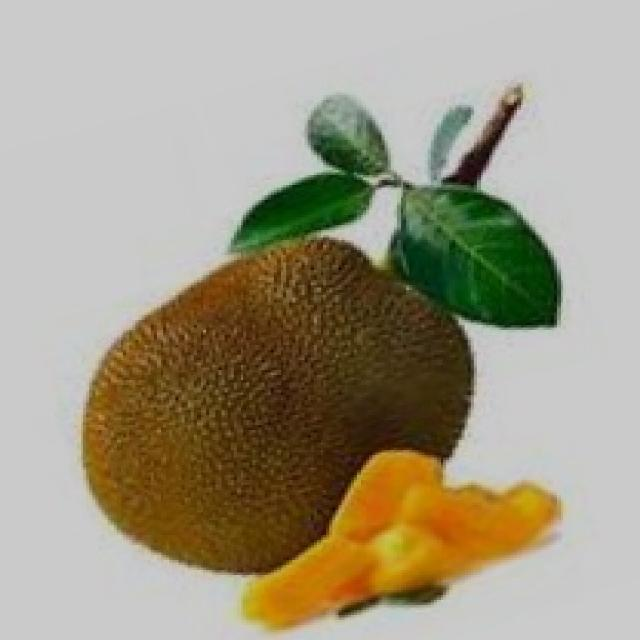Fruit: (52, 222, 450, 612)
